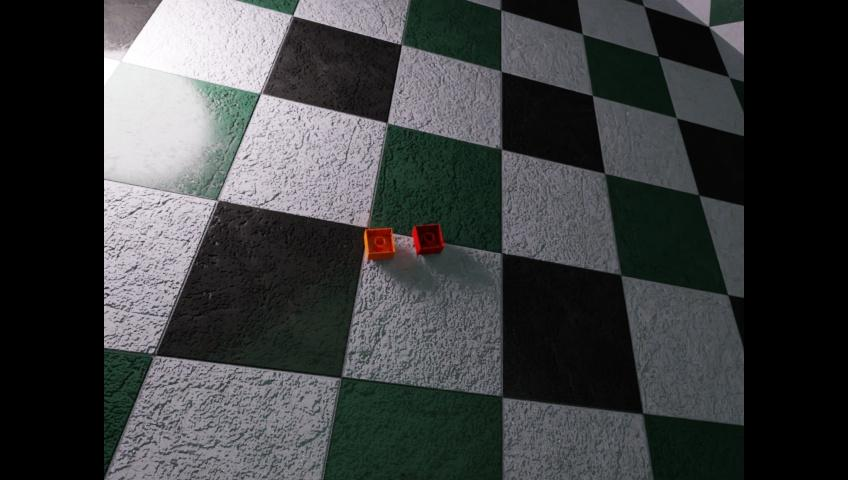2x2_orange: (364, 228, 394, 258)
2x2_red: (412, 223, 443, 255)
